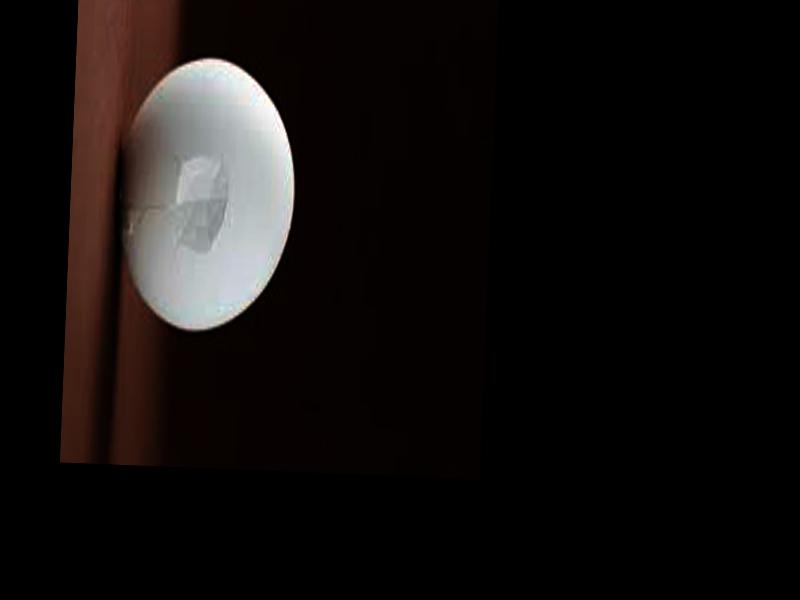Eggs: (112, 54, 300, 331)
